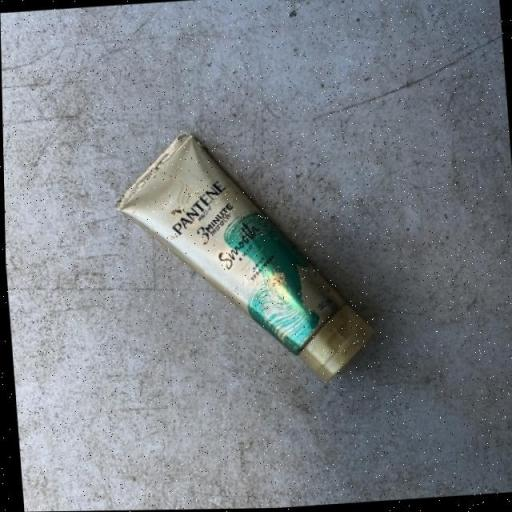plastic: (108, 119, 376, 396)
